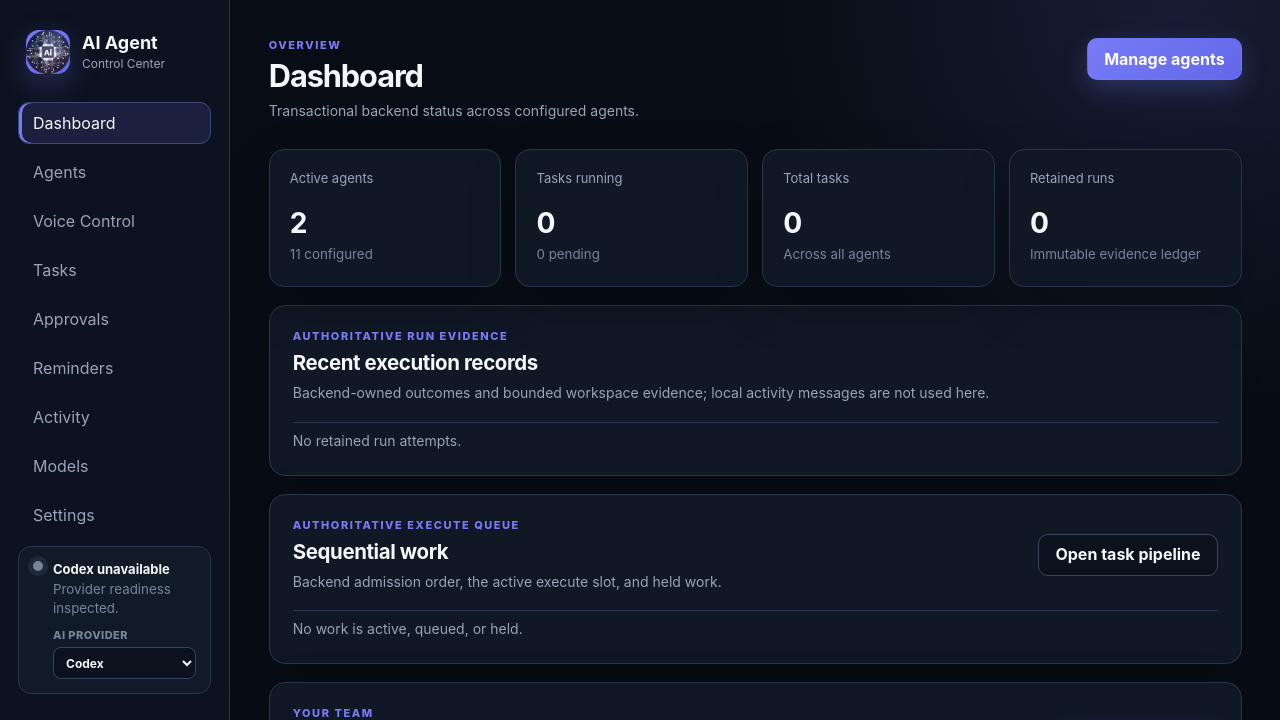
Test case: integrated desktop UI acceptance › keeps the Activity page consistent with the authoritative active-agent count
The width and height of the screenshot is (1280, 720).
Expected: the navigation bar named "Primary navigation" is shown, top-left (18, 102), bottom-right (211, 536)
Step 1. Click the button "Activity" → [115, 417], box top-left (18, 396), bottom-right (211, 438)
(page scrolled)
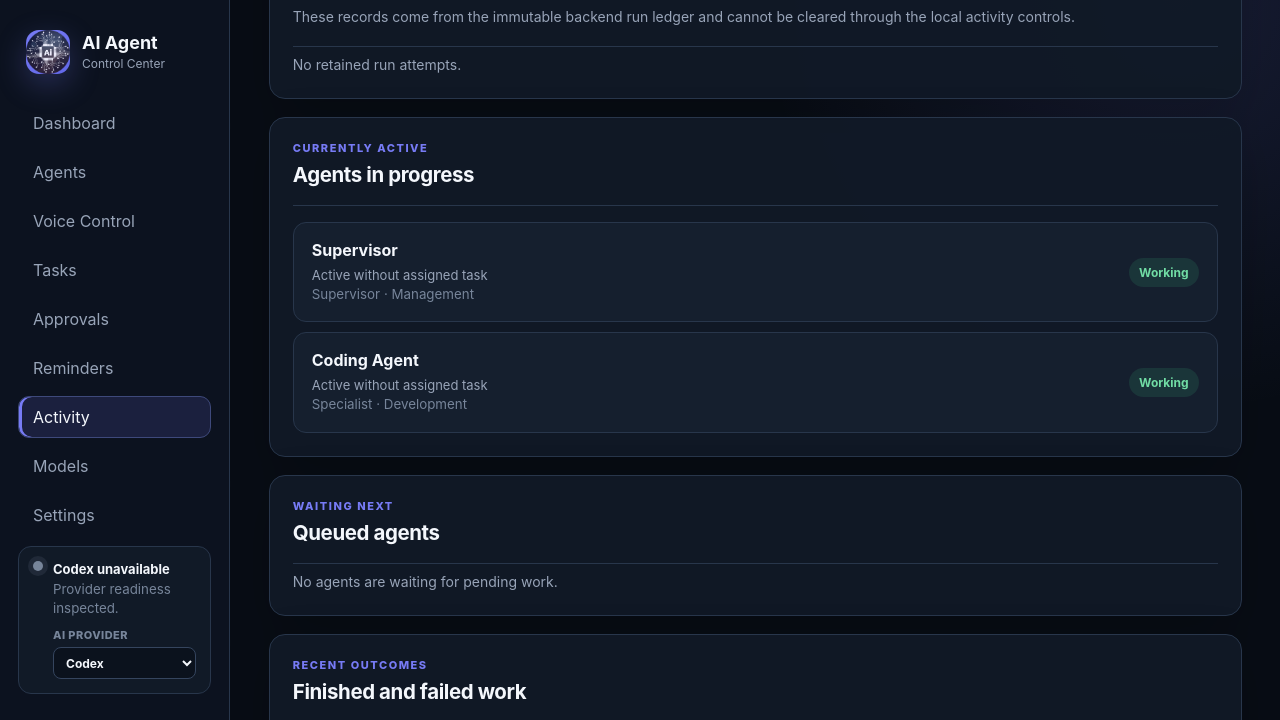
Expected: the heading "Supervisor" is shown, top-left (312, 240), bottom-right (398, 260)
Expected: the heading "Coding Agent" is shown, top-left (312, 350), bottom-right (419, 370)
